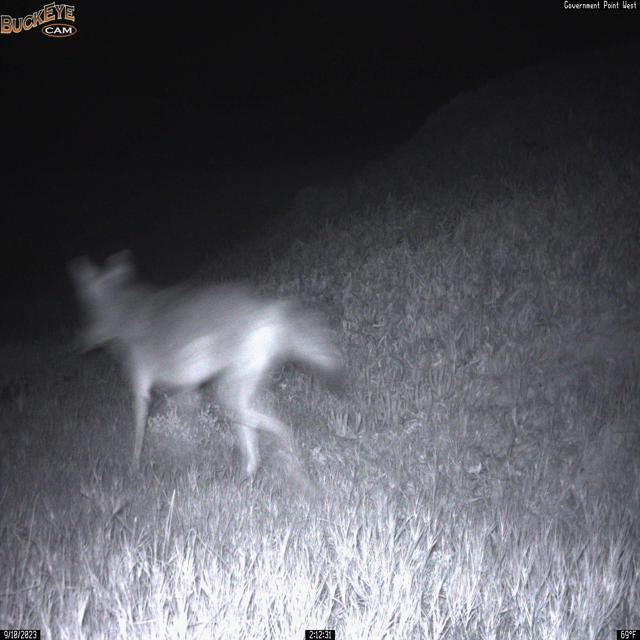coyote: (64, 244, 347, 500)
